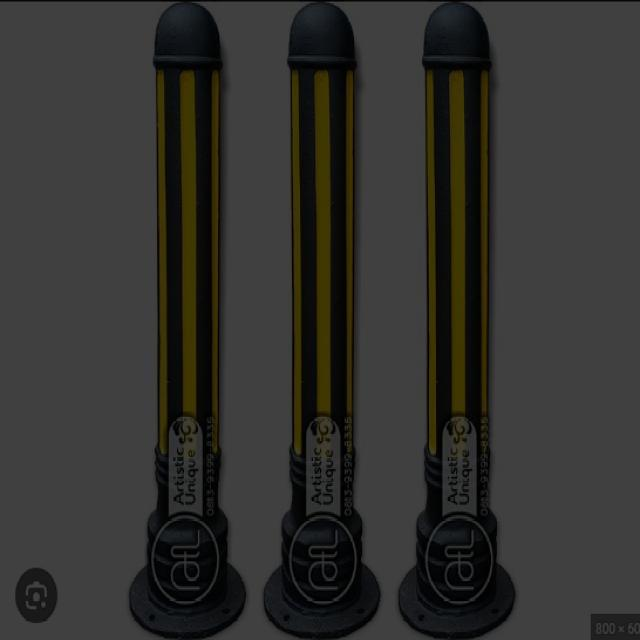Bollard: (131, 0, 238, 637), (283, 1, 367, 628), (419, 0, 498, 627)
